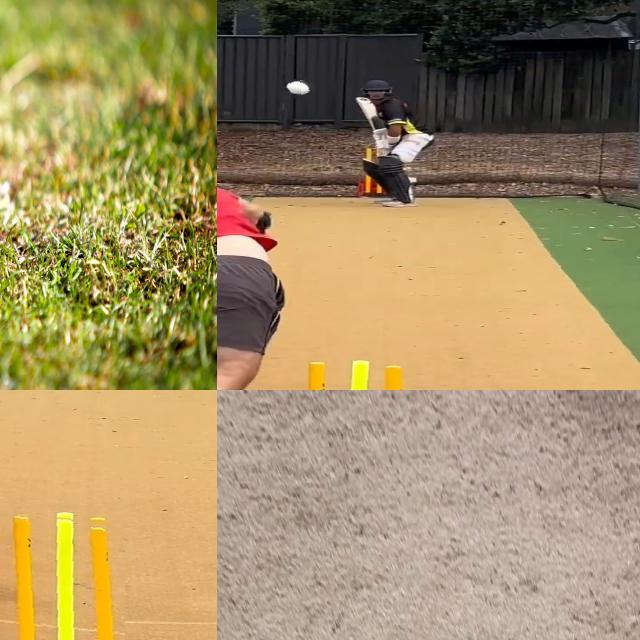Cricket ball: (284, 79, 310, 95)
Stumps: (0, 511, 125, 640)
